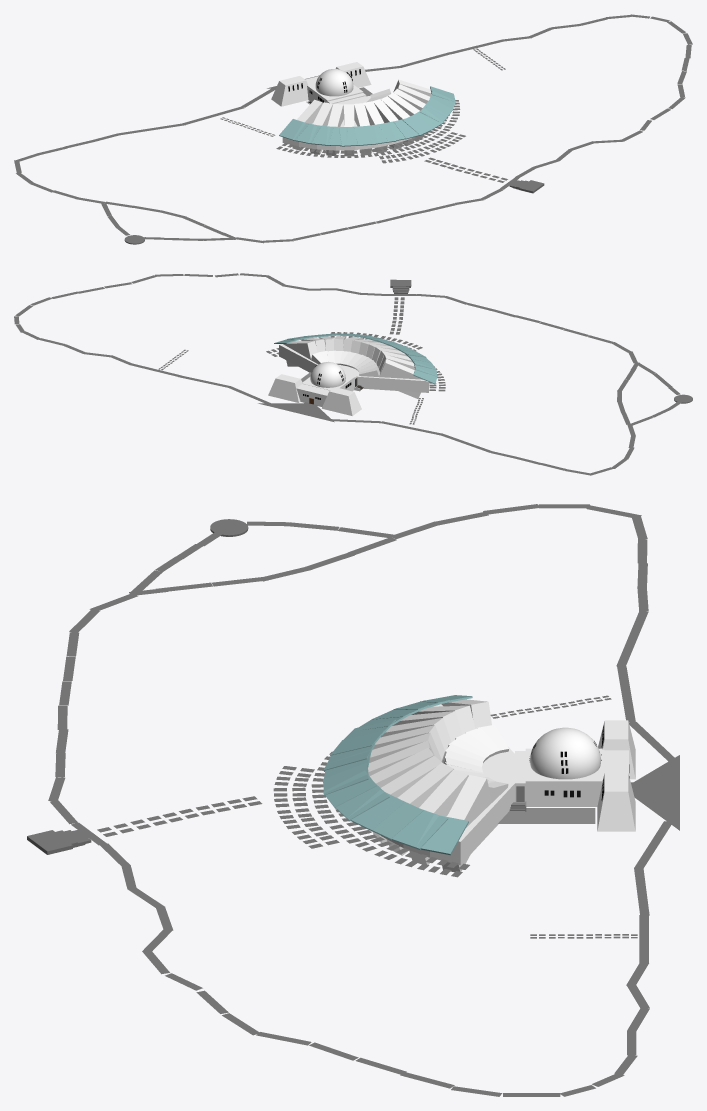
Rendered from asmundarsafn_nyasta_utgafa_bla.obj.
3 views of the same model, one above another, from view 1: azimuth 30°, elevation 25°; view 2: azimuth 150°, elevation 25°; view 3: azimuth 270°, elevation 25° (orthographic). The views are drawn at different scales.
Parts seen in each view (by area): view 1: Cube.047, Cube.033, Sphere, h_hlid, syningarsalur, Plane.001, v_hlid, innanhus; view 2: Cube.033, syningarsalur, Cube.047, Plane.001, h_hlid, Sphere, v_hlid, adaldyr; view 3: Cube.033, Cube.047, Plane.001, syningarsalur, Sphere, innanhus, v_hlid, h_hlid.
Part boxes in pixels (left/top/right/bottom): Cube.047: left=279, top=86, right=456, bottom=146; Cube.033: left=292, top=79, right=431, bottom=156; Sphere: left=315, top=69, right=353, bottom=96; h_hlid: left=271, top=76, right=308, bottom=106; syningarsalur: left=282, top=96, right=412, bottom=150; Plane.001: left=124, top=75, right=544, bottom=244; v_hlid: left=335, top=62, right=371, bottom=87; innanhus: left=307, top=83, right=363, bottom=102; Cube.033: left=283, top=336, right=422, bottom=398; syningarsalur: left=279, top=337, right=429, bottom=392; Cube.047: left=274, top=333, right=437, bottom=384; Plane.001: left=258, top=279, right=692, bottom=422; h_hlid: left=322, top=387, right=361, bottom=415; Sphere: left=310, top=362, right=345, bottom=387; v_hlid: left=268, top=374, right=302, bottom=402; adaldyr: left=296, top=384, right=329, bottom=406; Cube.033: left=368, top=699, right=508, bottom=872; Cube.047: left=323, top=695, right=472, bottom=855; Plane.001: left=27, top=519, right=679, bottom=854; syningarsalur: left=380, top=704, right=514, bottom=864; Sphere: left=530, top=727, right=601, bottom=779; innanhus: left=525, top=748, right=604, bottom=806; v_hlid: left=597, top=772, right=635, bottom=831; h_hlid: left=598, top=720, right=635, bottom=779.
Bounding box in the file's own units: 147 × 8.94 × 68.62.
